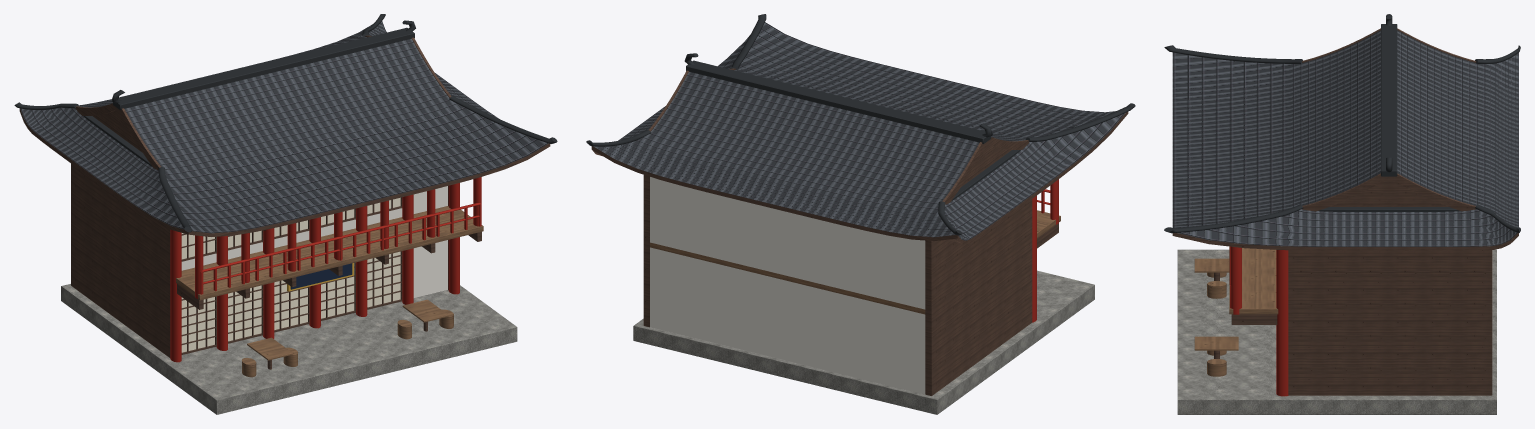
The model's file is build-teahall.glb.
3 views of the same model, side by side, from view 1: azimuth 30°, elevation 25°; view 2: azimuth 150°, elevation 25°; view 3: azimuth 270°, elevation 25° (orthographic). The views are drawn at different scales.
Parts seen in each view (by area): view 1: build-teahall-Teahouse; view 2: build-teahall-Teahouse; view 3: build-teahall-Teahouse.
Boxes of the visible parts, x1=… form: build-teahall-Teahouse: x1=14, y1=14, x2=557, y2=414; build-teahall-Teahouse: x1=586, y1=14, x2=1135, y2=414; build-teahall-Teahouse: x1=1164, y1=14, x2=1520, y2=414.
Bounding box in the file's own units: 5.94 × 3.78 × 4.82.
6 materials, 5 textured.
